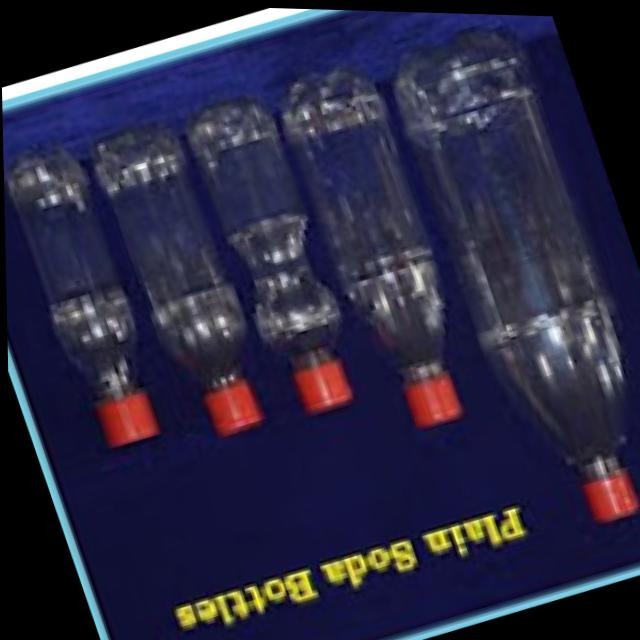glass_beverage_bottles: (389, 20, 640, 538), (276, 57, 486, 436), (90, 112, 292, 451), (183, 89, 376, 427), (2, 137, 176, 456)
